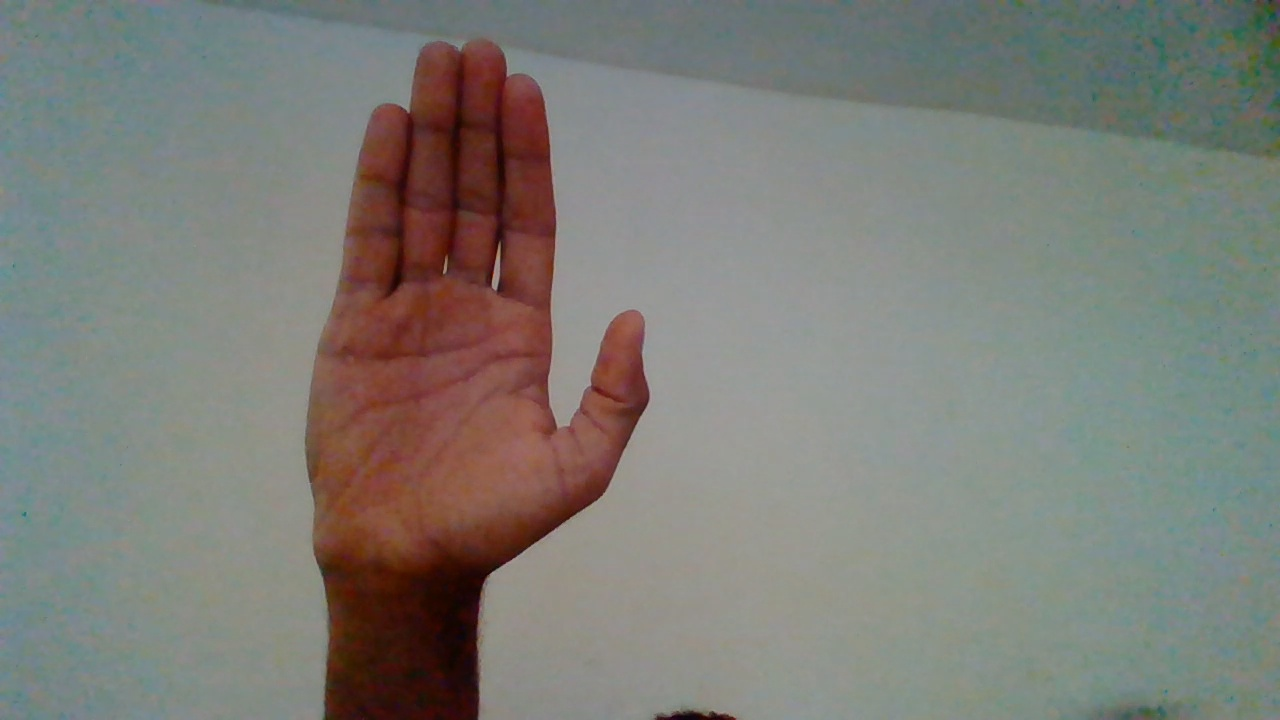ha: (300, 42, 659, 711)
